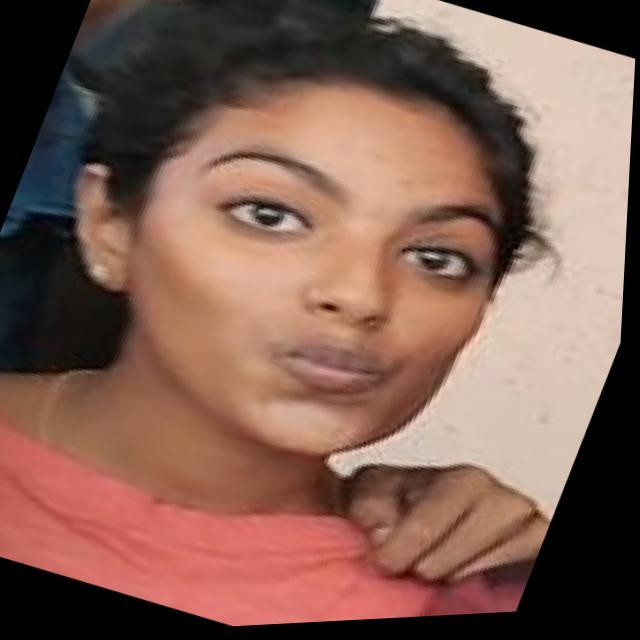Nonhelmet: (65, 0, 515, 472)
